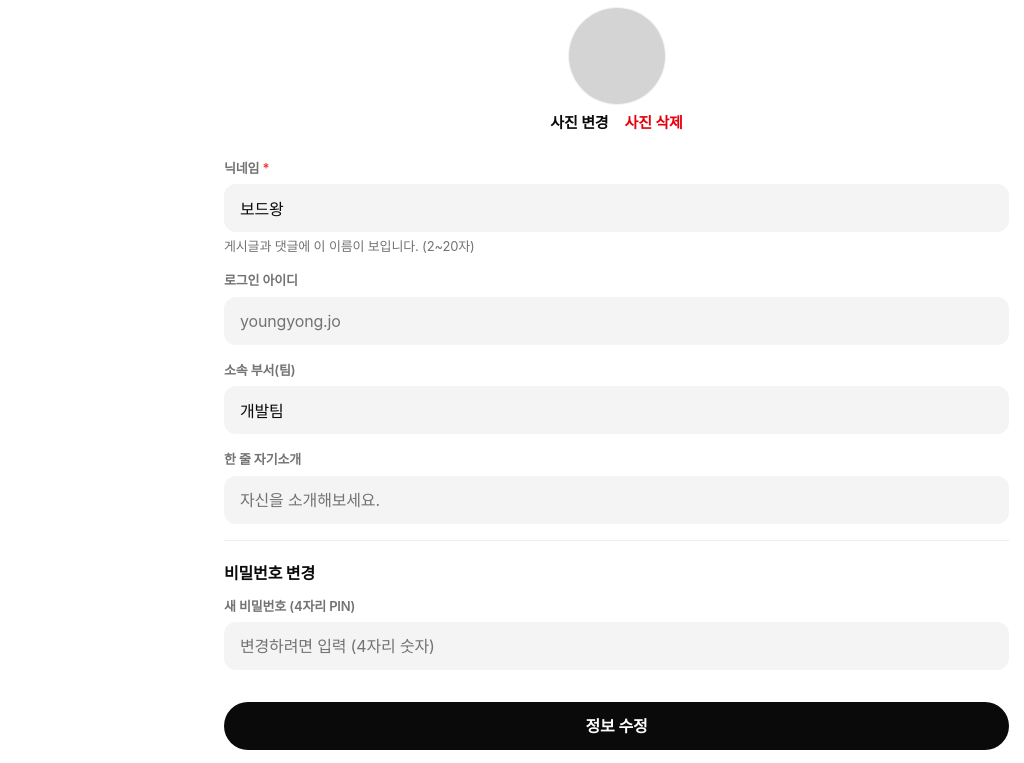
MypageForm › 사진 삭제를 누르면 기본(닉네임 첫 글자) 모습으로 돌아가고, 저장 때 삭제 표시를 보낸다
What coordinates should you click on to do the following:
click the button "사진 삭제"
I would click on:
 (654, 123)
Its box is [624,112,683,134].
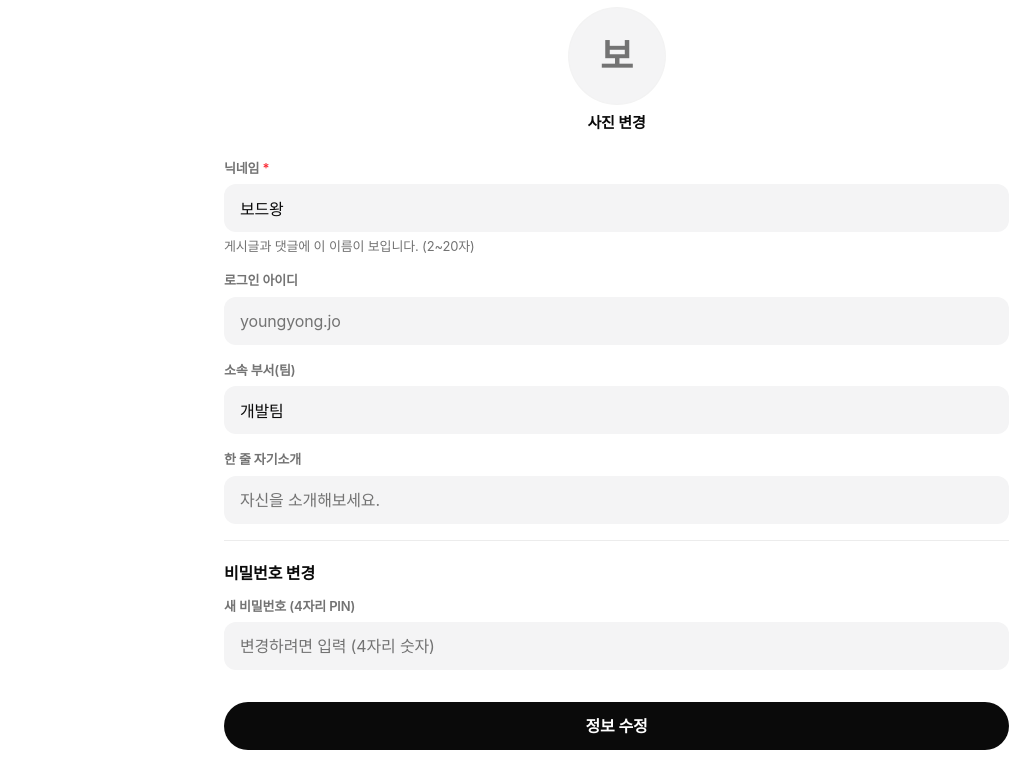
Expected: the picture with alt text "Profile" is gone
Expected: the text "보" is shown, [600,36,633,76]
Expected: the button "사진 삭제" is gone
